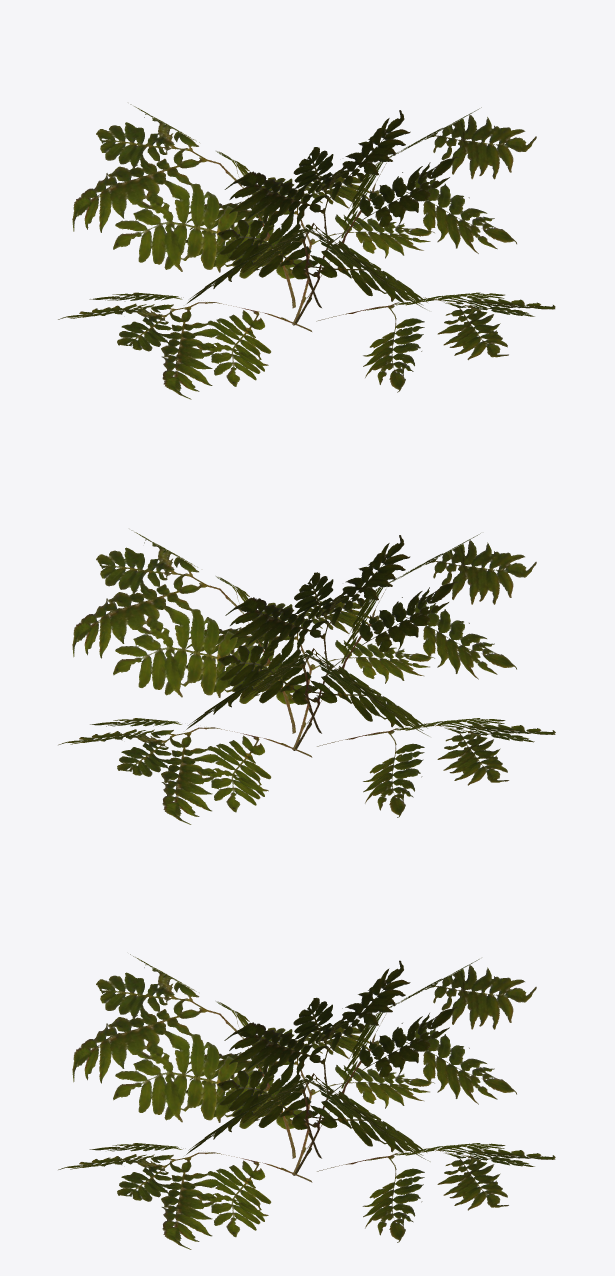
Rendered from plant_mesh_01.glb.
3 renders of one model, top to bottom at view 1: azimuth 30°, elevation 25°; view 2: azimuth 150°, elevation 25°; view 3: azimuth 270°, elevation 25°, orthographic.
Visible parts, largest first — view 1: plant_mesh_01; view 2: plant_mesh_01; view 3: plant_mesh_01.
Part boxes in pixels (x1=…): plant_mesh_01: x1=58, y1=104, x2=555, y2=399; plant_mesh_01: x1=58, y1=530, x2=555, y2=824; plant_mesh_01: x1=58, y1=954, x2=555, y2=1249.
Bounding box in the file's own units: 0.5456 × 0.3209 × 0.6196.
1 material, 1 textured.
